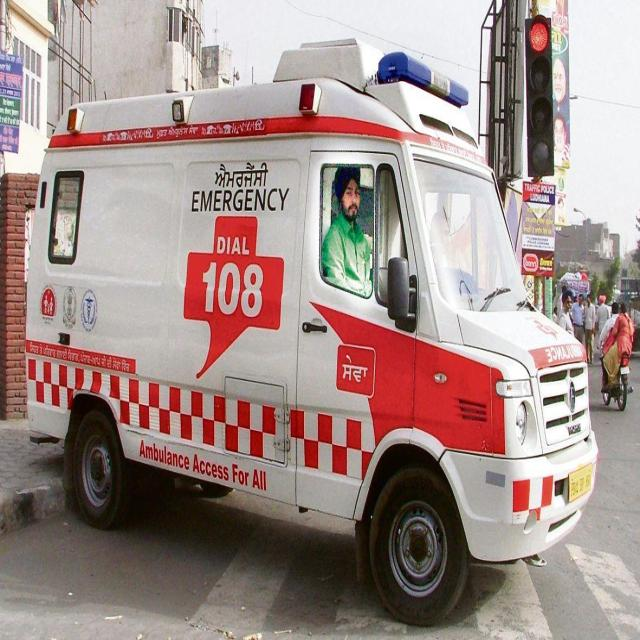emergency: (26, 41, 599, 623)
